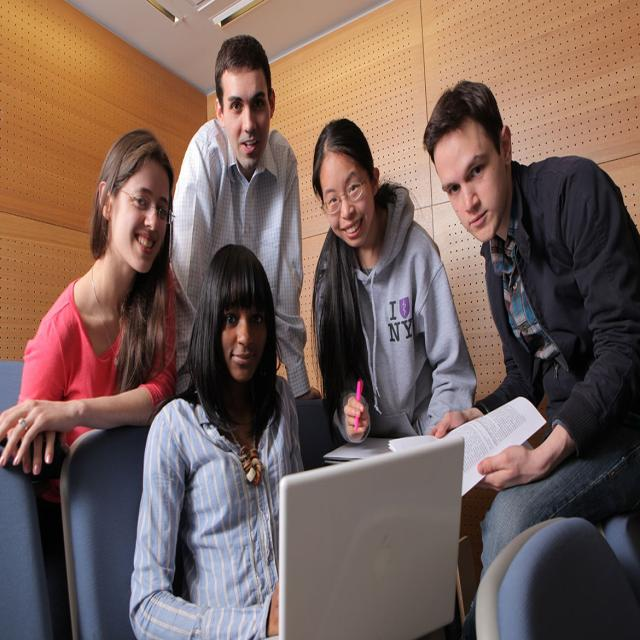body: (420, 77, 640, 640), (0, 121, 182, 574), (128, 239, 306, 640), (308, 115, 480, 449), (168, 33, 322, 404)
